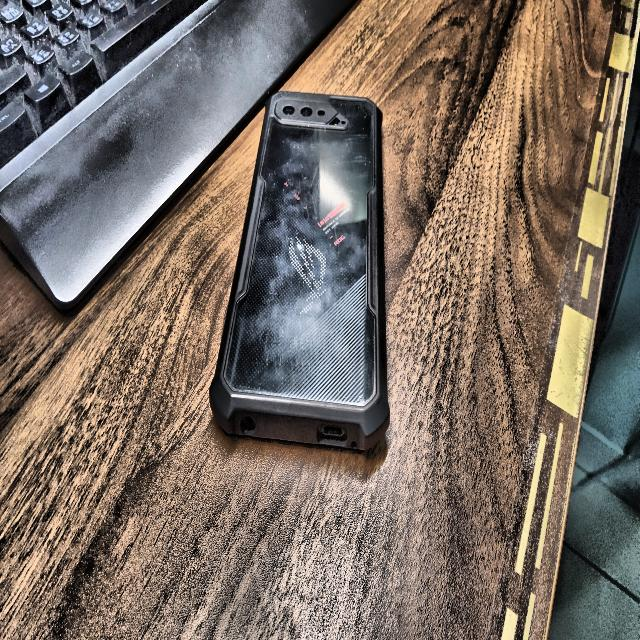PHONE: (210, 92, 389, 450)
